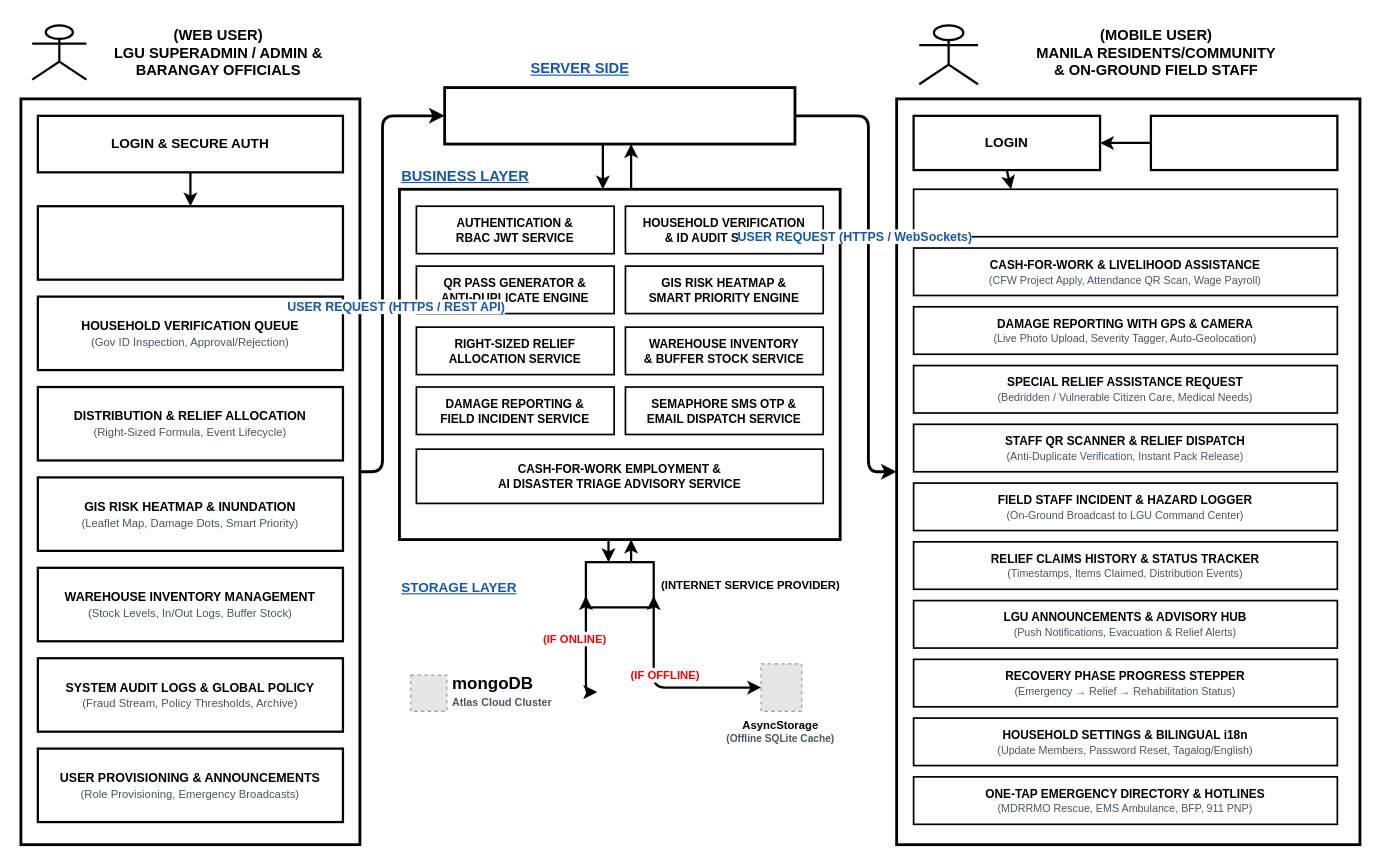
The diagram is 1381 pixels wide and 866 high, and some of its shapes have lost their labels. Grey dashed boxes stand in for pictures. Each missing label, with the centre of its shape:
DIGITAL QR RELIEF PASS PROFILE (Encrypted Token, Offline Sync, Beneficiary Info): the point at 1125,212
EXECUTIVE COMMAND DASHBOARD (City KPIs, Phase Stepper, Active Events): the point at 190,242
ISP: the point at 619,584
node (JS) + EXPRESS Js + Socket.io: the point at 619,115
REGISTER + OTP: the point at 1243,142
